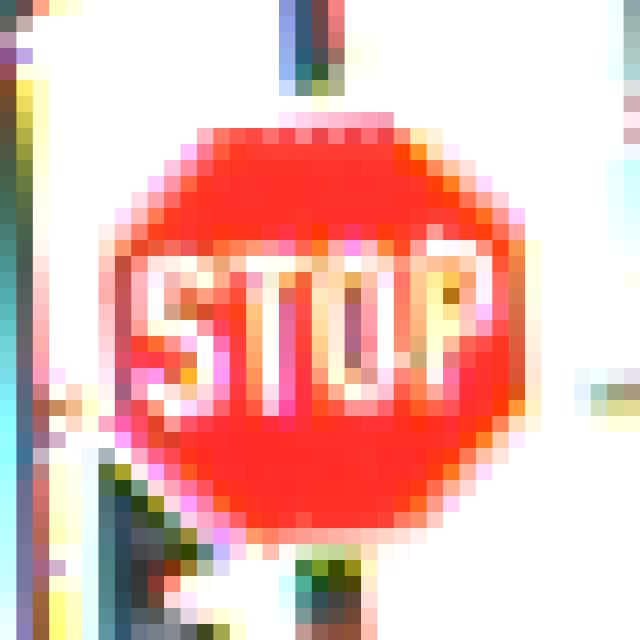STOP: (83, 81, 559, 545)
